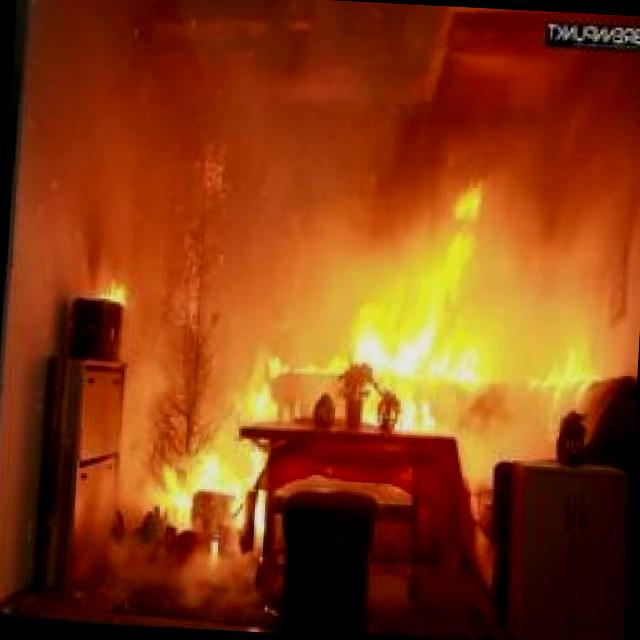fire: (177, 133, 634, 486)
